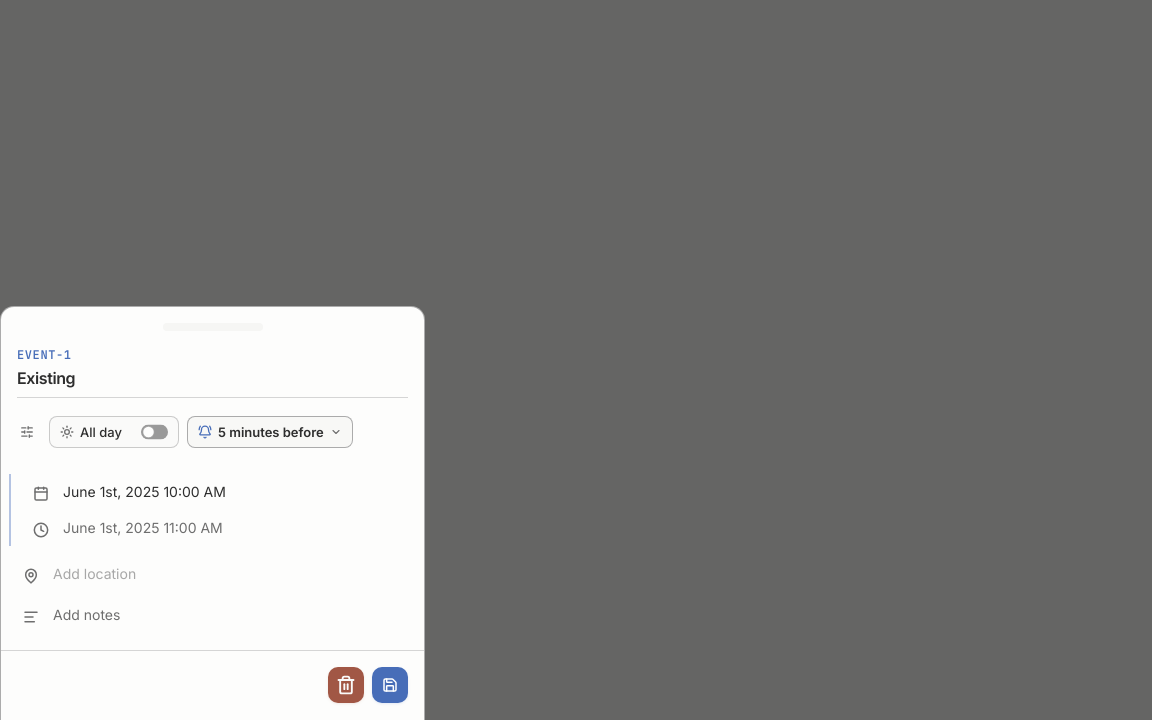
Test: CreateEventDialog — event reminder control › saves an edited reminder on an existing event
This screenshot has width=1152, height=720.
Later steps or results of the test are not shown.
Click the button with aria-label "Reminder".
click(270, 432)  # box [187, 416, 353, 448]
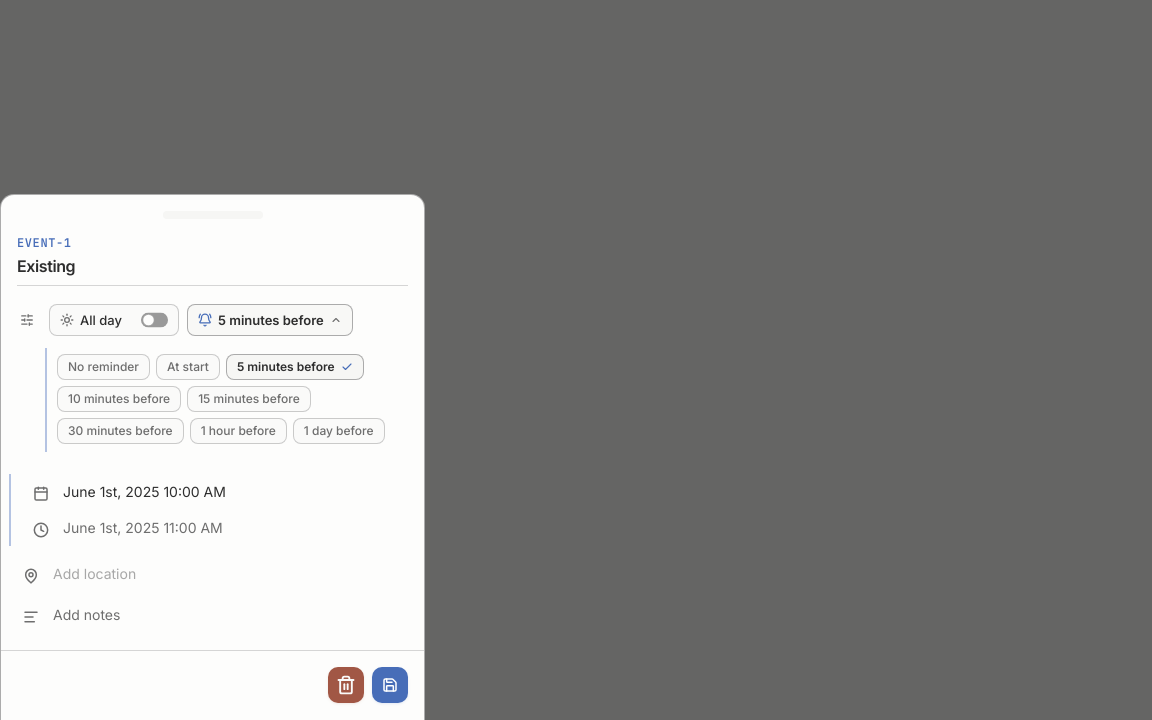
Click the button "No reminder".
click(104, 367)  # box [57, 354, 150, 380]
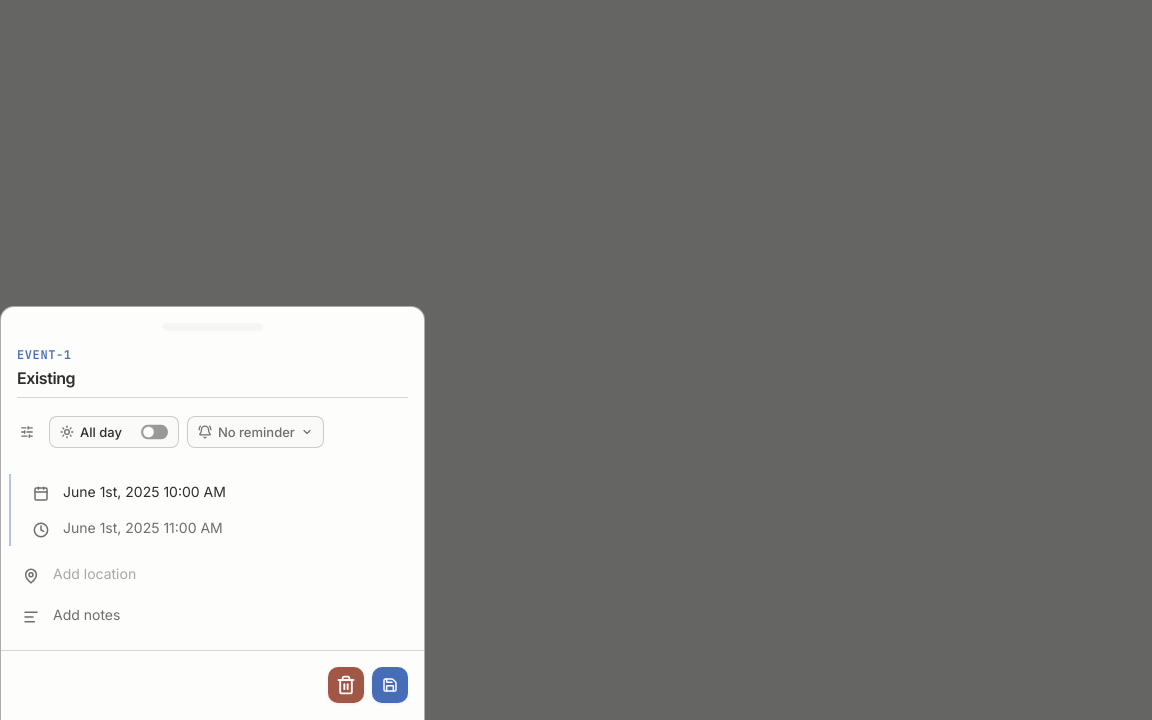
Expected: the button labelled "No reminder" is shown, [187, 416, 324, 448]
